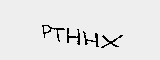Н: (83, 29, 100, 51), (66, 26, 80, 48)
Р: (39, 22, 53, 41)
Т: (49, 24, 64, 43)
Х: (99, 32, 122, 51)
